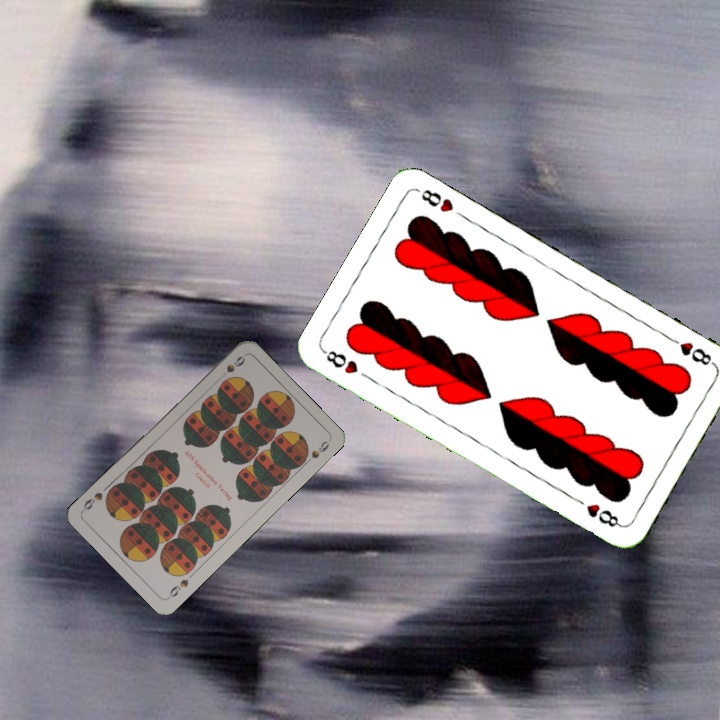H8: (663, 332, 718, 369), (319, 346, 361, 377)
S9: (214, 352, 247, 383), (164, 575, 191, 601)
